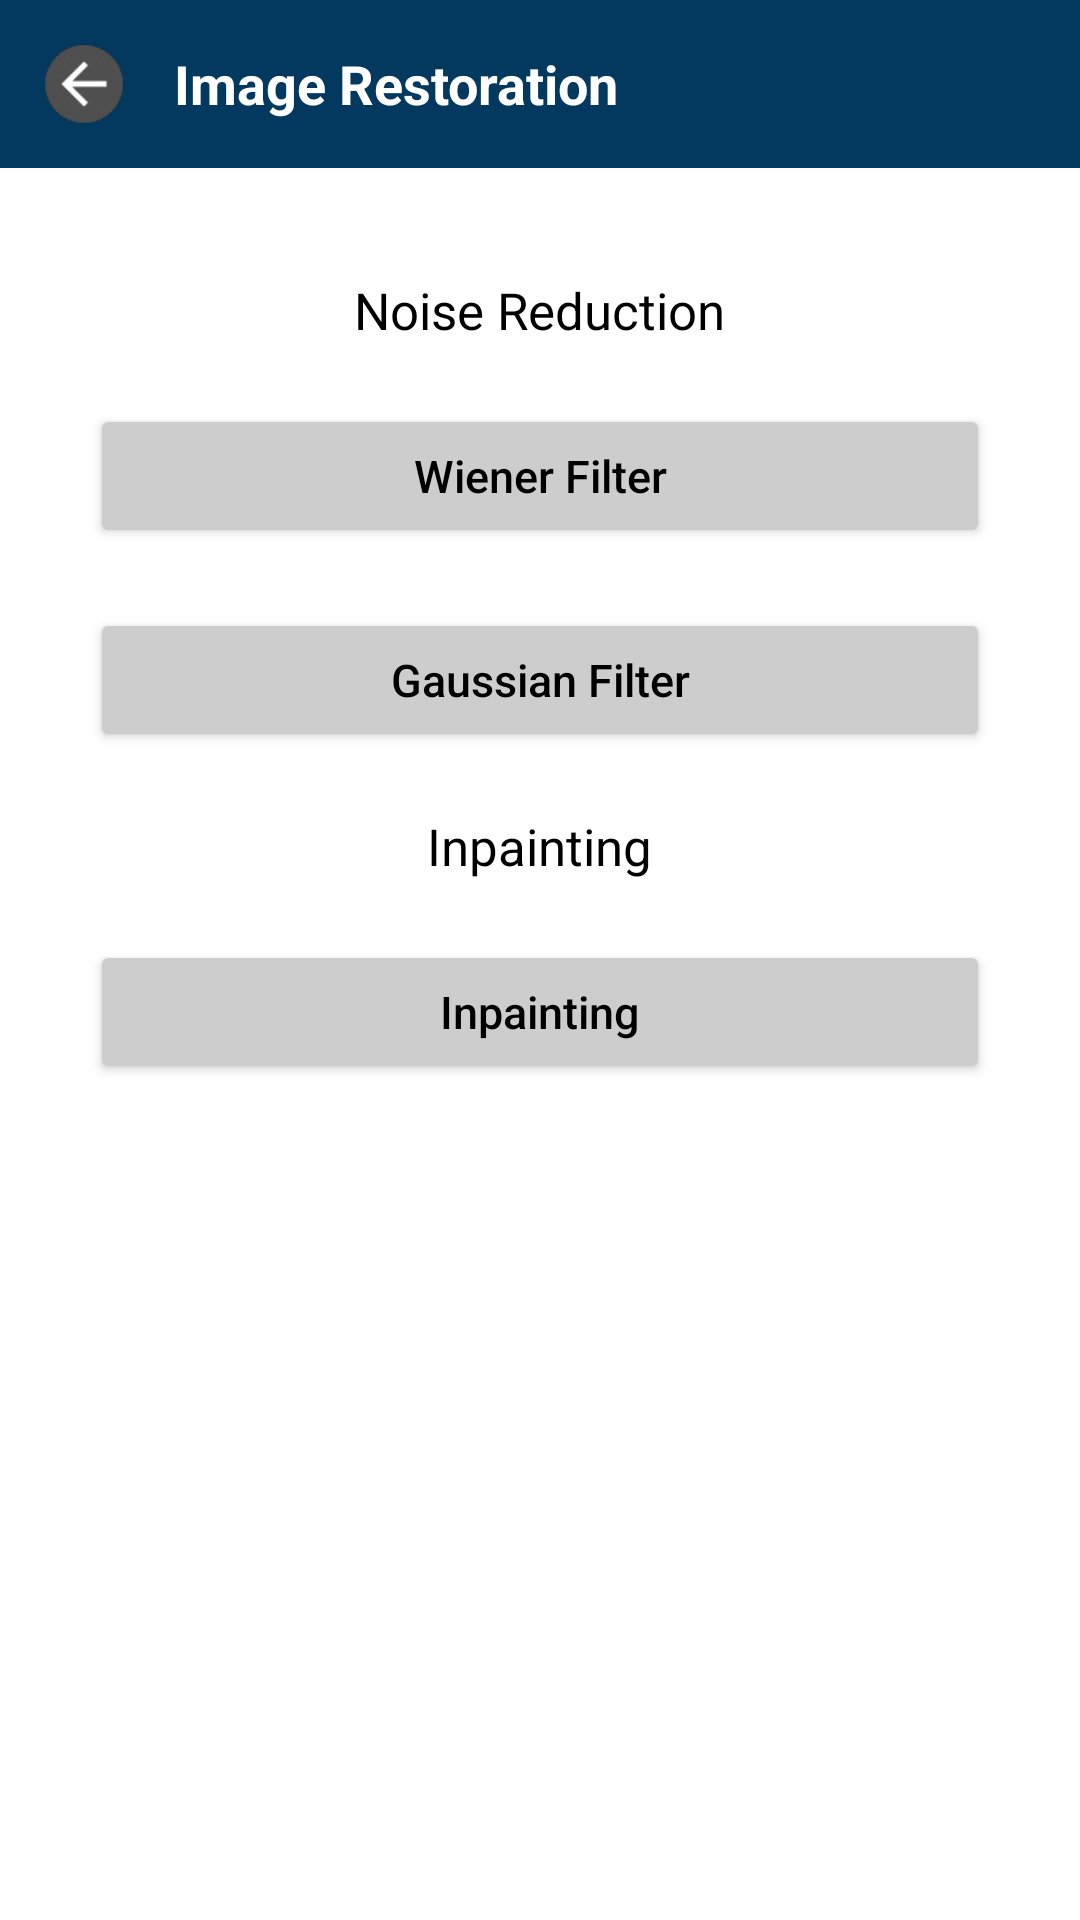

Icons on this 1080w x 1920h Android screen, each with its box as box=[x1, y1, x2, y2]:
Back: box=[45, 45, 123, 123]
